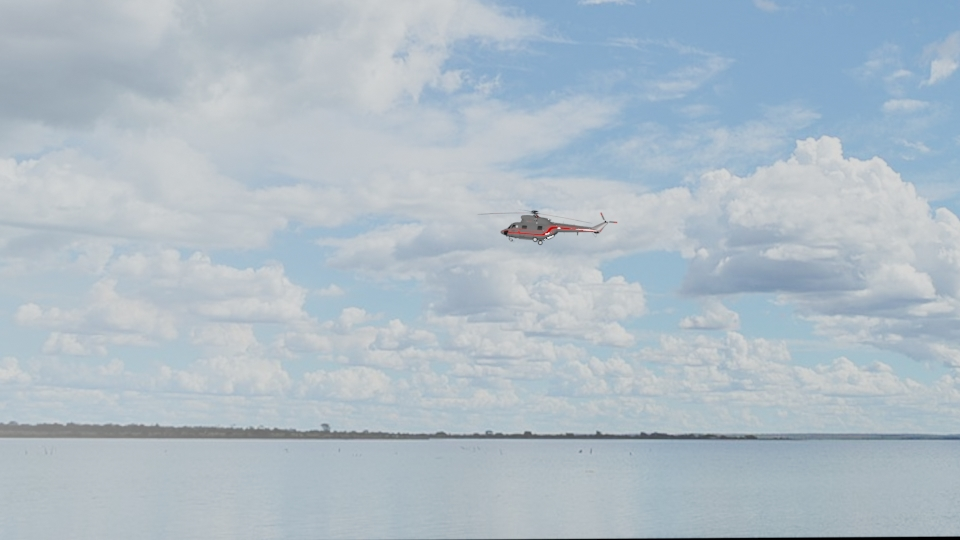heli: (498, 208, 618, 246)
